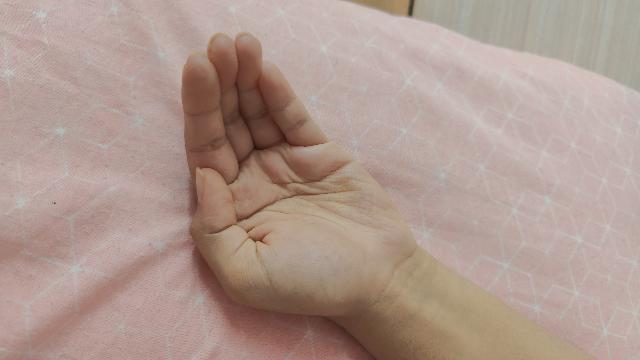sarpsheesh: (180, 32, 598, 360)
